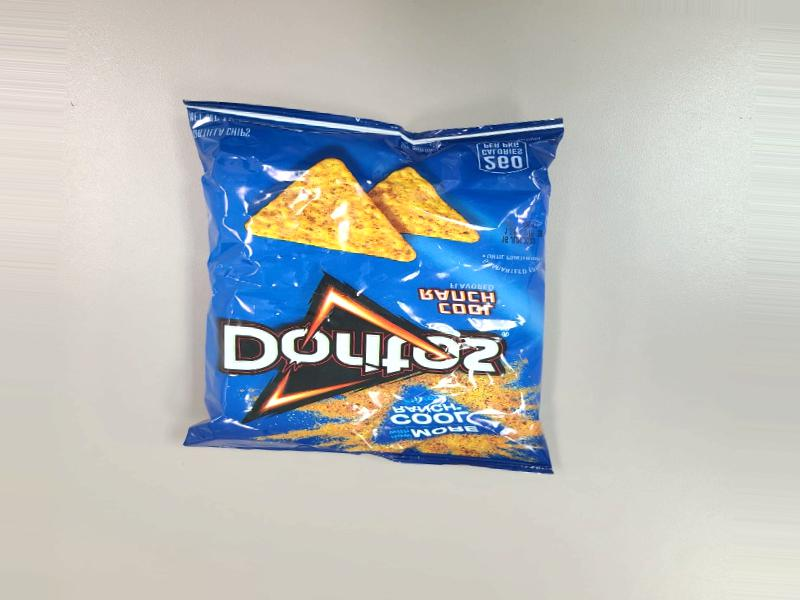doritos: (204, 66, 574, 478)
